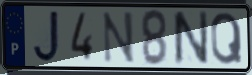4: (69, 10, 96, 63)
8: (139, 8, 169, 68)
J: (31, 8, 61, 64)
N: (171, 9, 210, 67), (101, 10, 137, 64)
Q: (209, 11, 244, 67)
